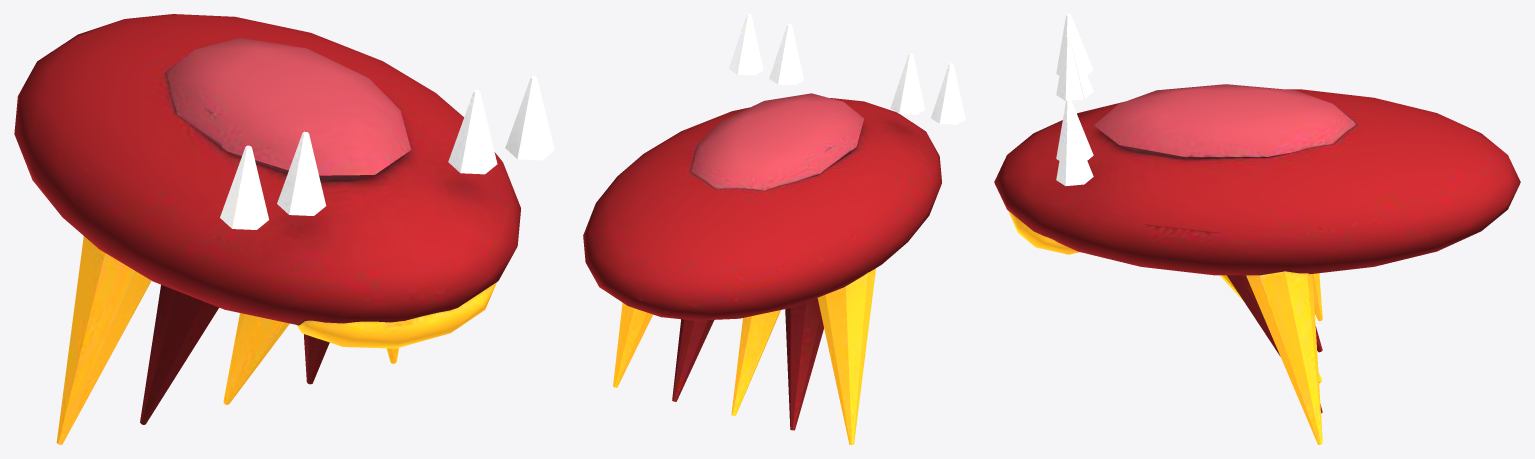
The model's file is dragon_mandibula.glb.
3 renders of one model, left to right at view 1: azimuth 30°, elevation 25°; view 2: azimuth 150°, elevation 25°; view 3: azimuth 270°, elevation 25°, orthographic. The views are drawn at different scales.
Visible parts, largest first — view 1: dragon_mandibula; view 2: dragon_mandibula; view 3: dragon_mandibula.
Boxes of the visible parts, bbox=[...] form: dragon_mandibula: bbox=[14, 14, 554, 444]; dragon_mandibula: bbox=[583, 14, 965, 444]; dragon_mandibula: bbox=[994, 14, 1520, 444].
Size of the model in its own units: 1.05 by 1.1 by 1.67.
Materials: 1 (1 with a texture image).
